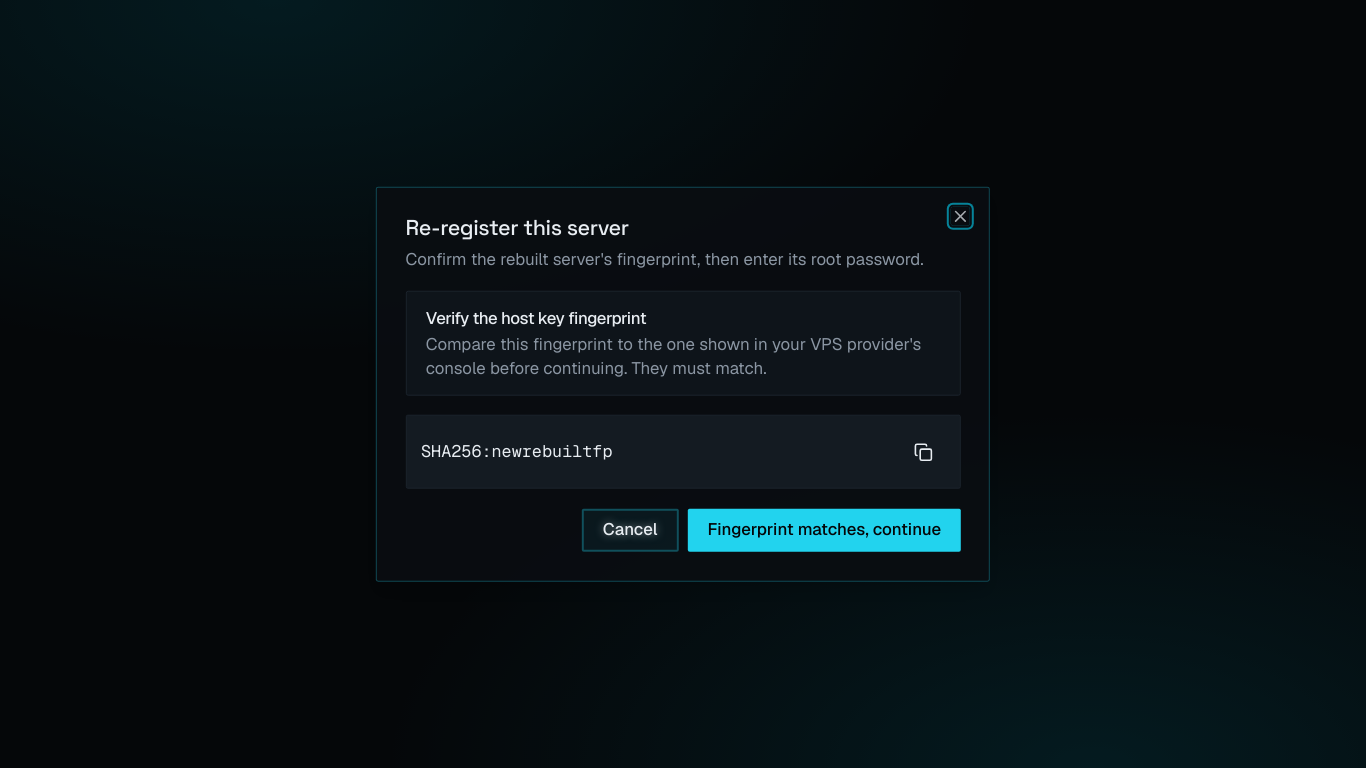
Test: ReregisterDialog › shows the mapped error copy, with a retry only when retryable
Click the button "Fingerprint matches, continue" at (824, 530), box [688,508,960,552]
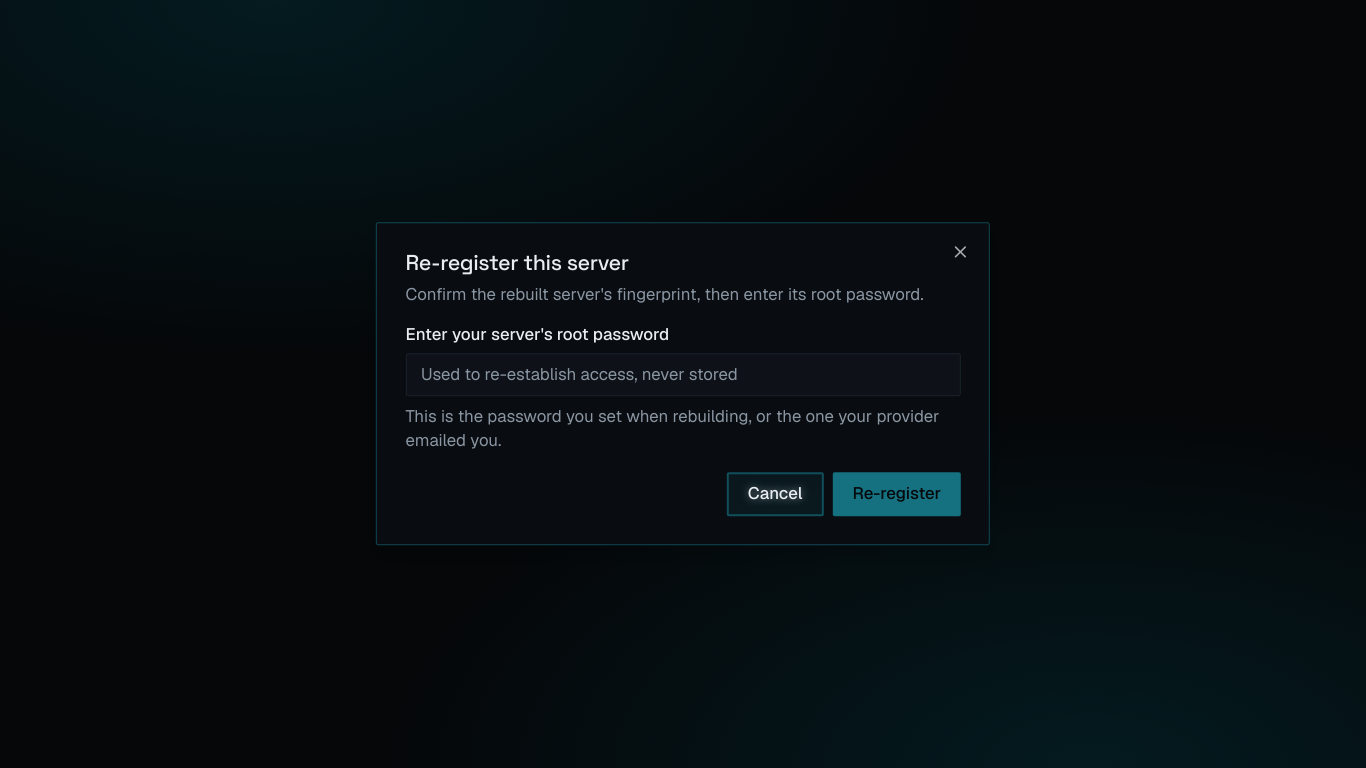
Type "wrong-pw" into the password field labelled "Enter your server's root password" at (683, 374), box [406,353,960,396]
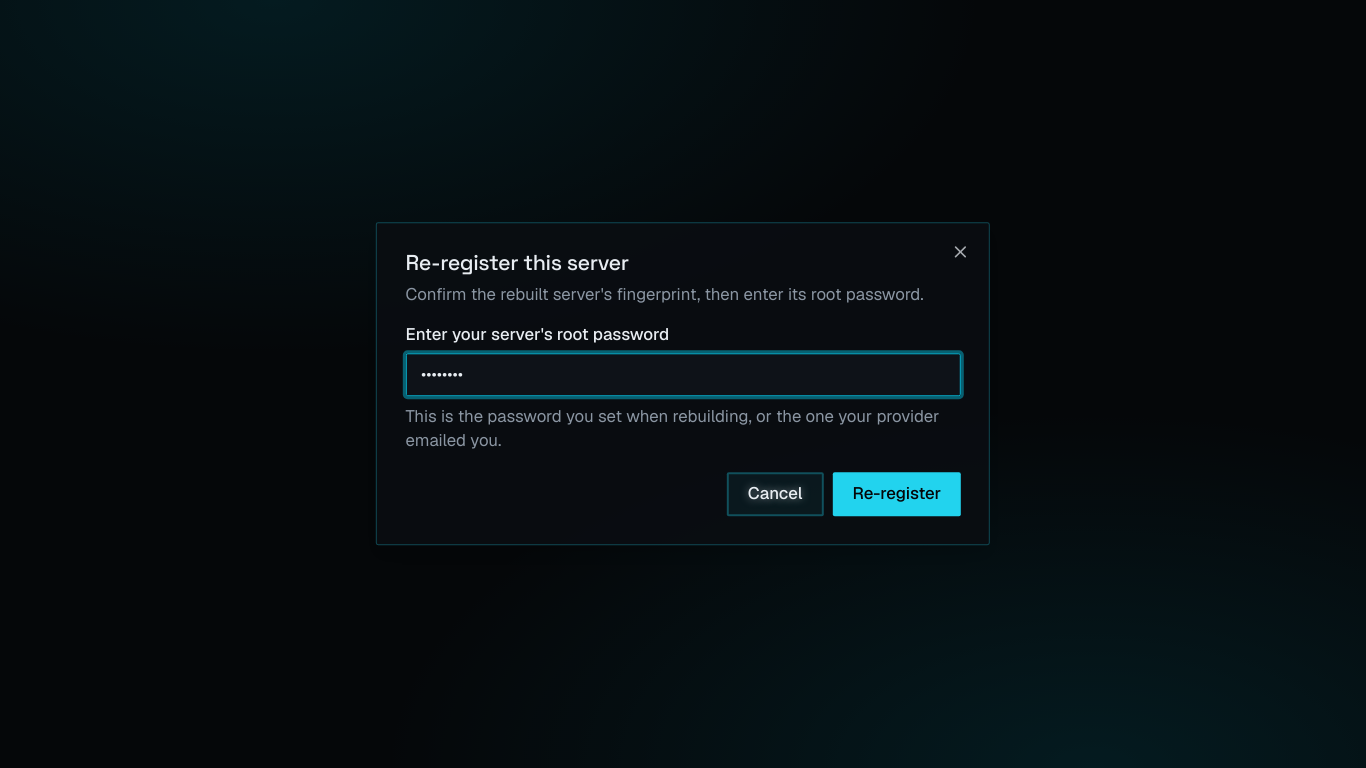
Click the button "Re-register" at (897, 494), box [833,473,960,516]
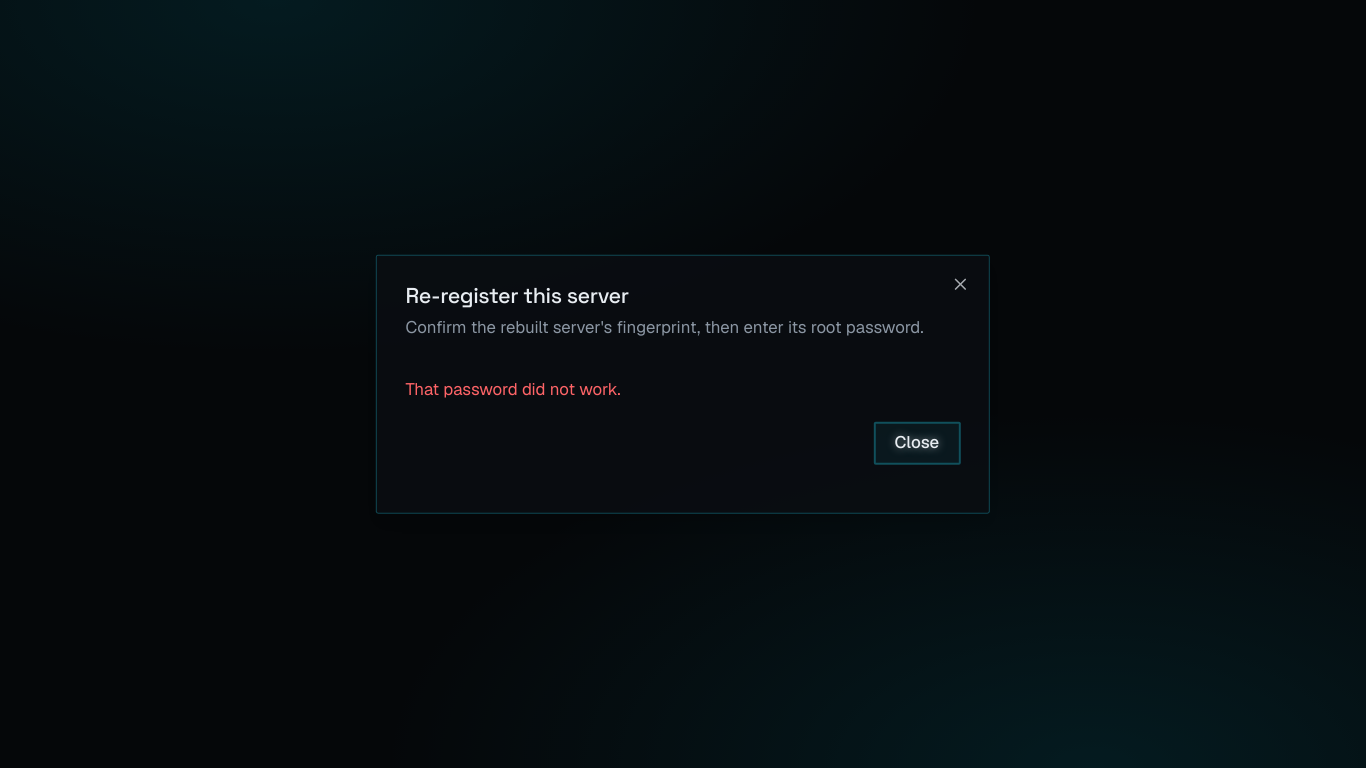
Now the text "That password did not work." is shown, box [406,378,621,400]
